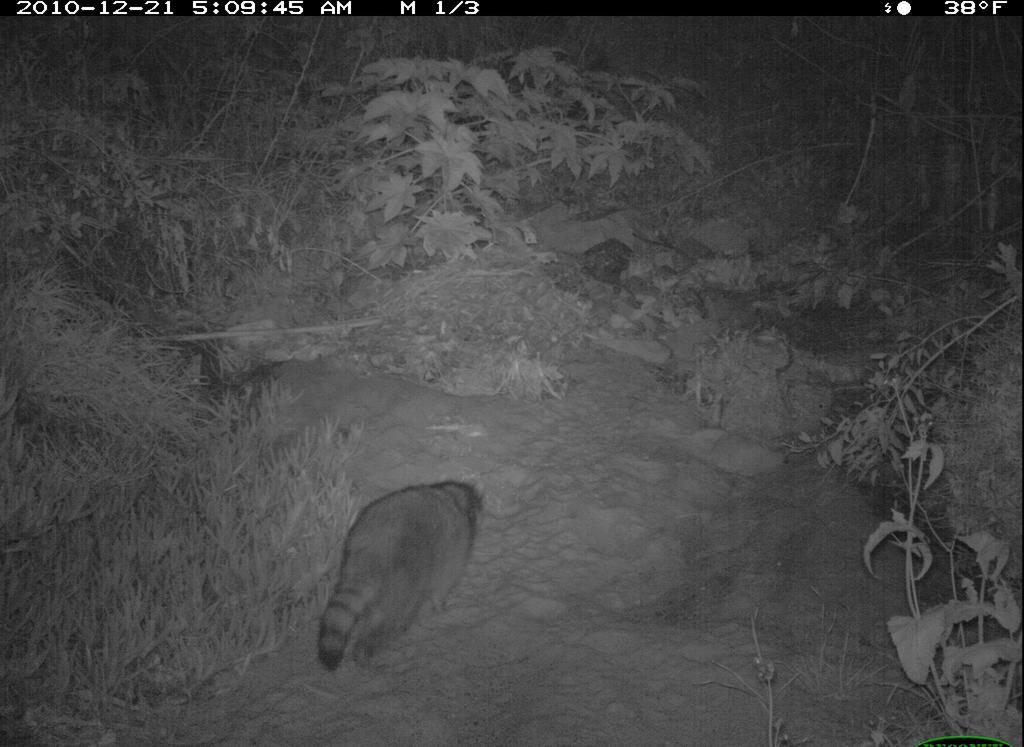raccoon: (306, 478, 486, 675)
